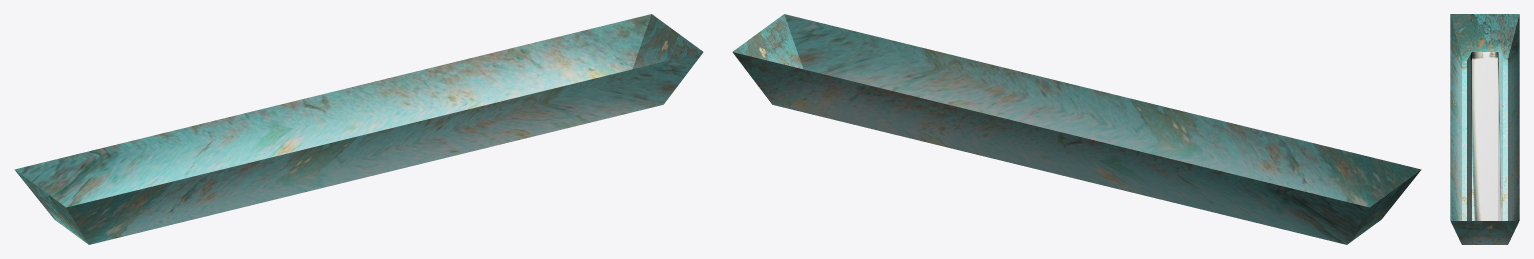
The model's file is Neon_4m_tall.FBX.
3 renders of one model, left to right at view 1: azimuth 30°, elevation 25°; view 2: azimuth 150°, elevation 25°; view 3: azimuth 270°, elevation 25°, orthographic. The views are drawn at different scales.
Parts seen in each view (by area): view 1: Neon_4m_tall; view 2: Neon_4m_tall; view 3: Neon_4m_tall.
Boxes of the visible parts, x1=… form: Neon_4m_tall: x1=14, y1=14, x2=703, y2=244; Neon_4m_tall: x1=732, y1=14, x2=1421, y2=244; Neon_4m_tall: x1=1450, y1=14, x2=1519, y2=244.
Size of the model in its own units: 96.09 by 7.41 by 13.55.
